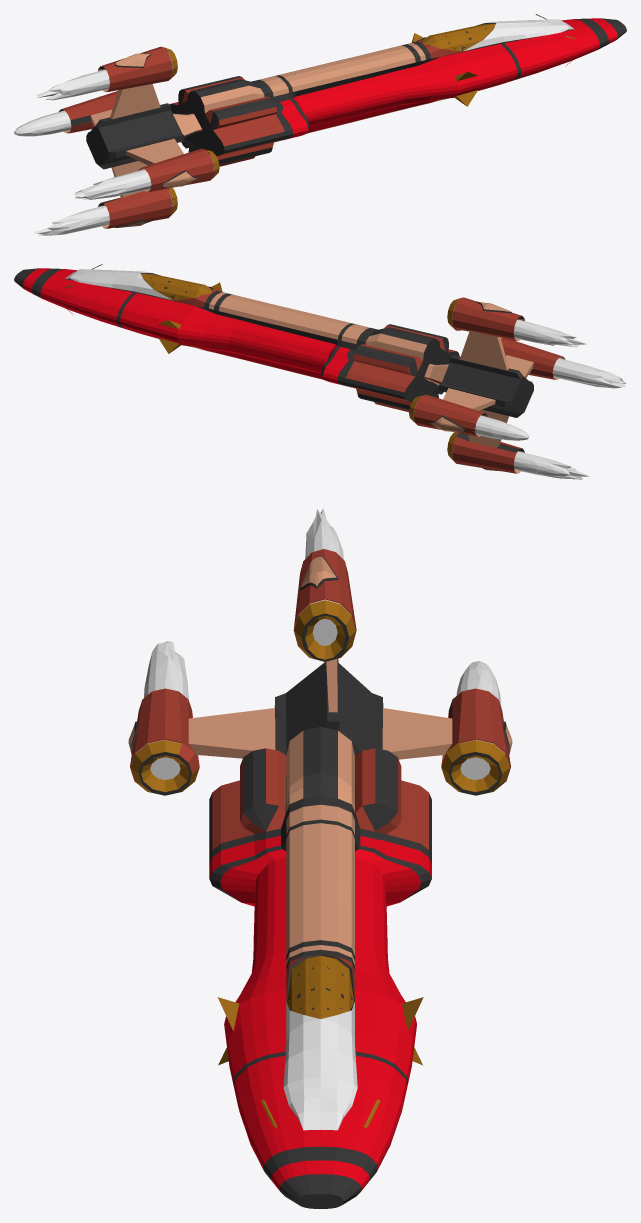
The model's file is SpaceShip.fbx.
3 renders of one model, top to bottom at view 1: azimuth 30°, elevation 25°; view 2: azimuth 150°, elevation 25°; view 3: azimuth 270°, elevation 25°, orthographic. The views are drawn at different scales.
Parts seen in each view (by area): view 1: Ship, Engine, fLAME; view 2: Ship, Engine, fLAME; view 3: Ship, Engine, fLAME.
Boxes of the visible parts, x1,y1,x2,y2 form: Ship: [170, 14, 626, 166]; Engine: [58, 46, 219, 228]; fLAME: [14, 69, 151, 235]; Ship: [14, 264, 459, 412]; Engine: [409, 297, 565, 473]; fLAME: [472, 319, 626, 479]; Ship: [209, 726, 431, 1208]; Engine: [128, 549, 512, 795]; fLAME: [144, 508, 501, 706].
Size of the model in its own units: 2441 by 674 by 707.
